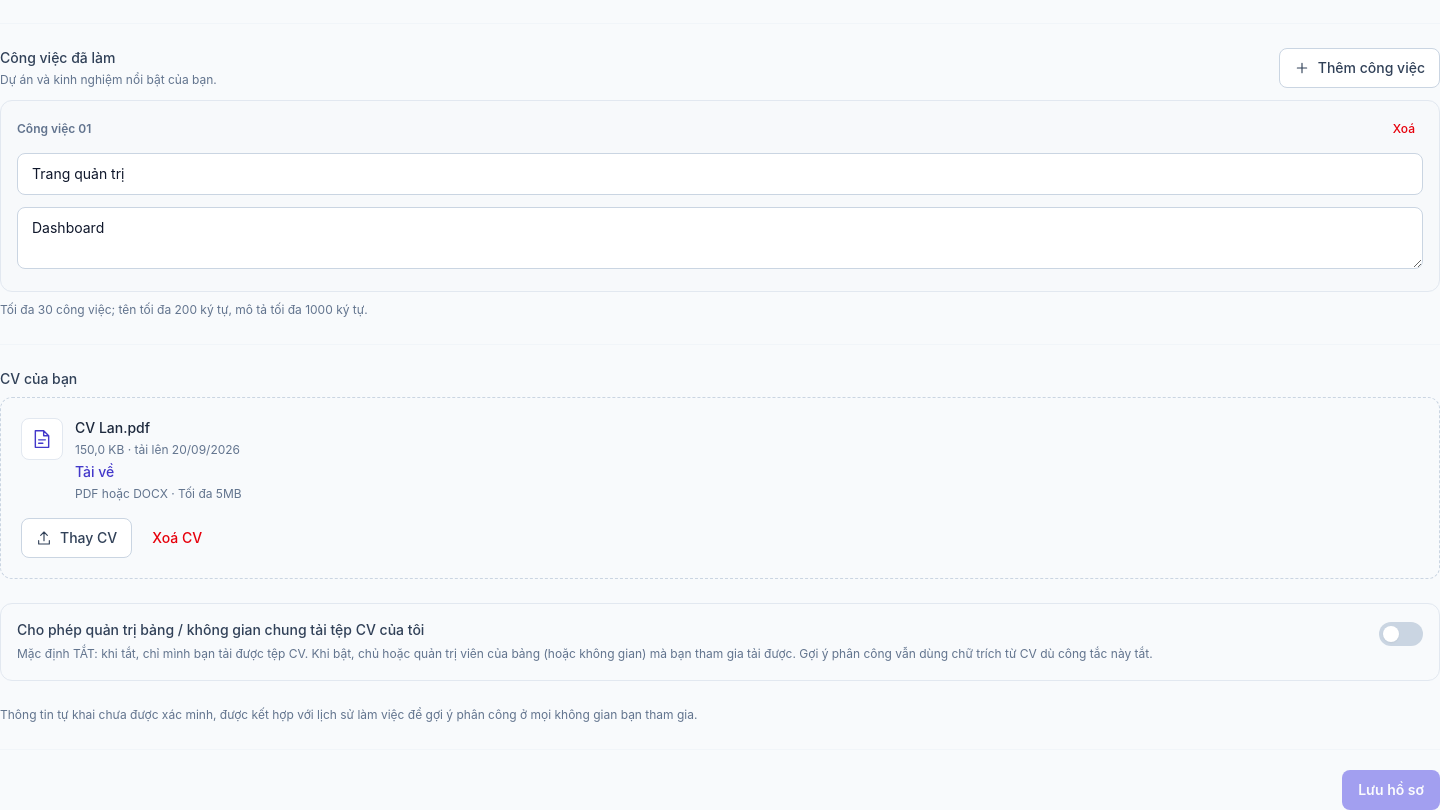
DeclaredProfileSection - công tắc chia sẻ CV (mặc định tắt) › mặc định TẮT; bật rồi Lưu gửi cvShared: true
(page scrolled)
Expected: the button "Lưu hồ sơ" is shown, [1342,770,1439,809]
What coordinates should you click on to do the following:
click the checkbox labelled "Cho phép quản trị bảng"
I would click on:
 (221, 630)
Its box is [0,603,1439,681].
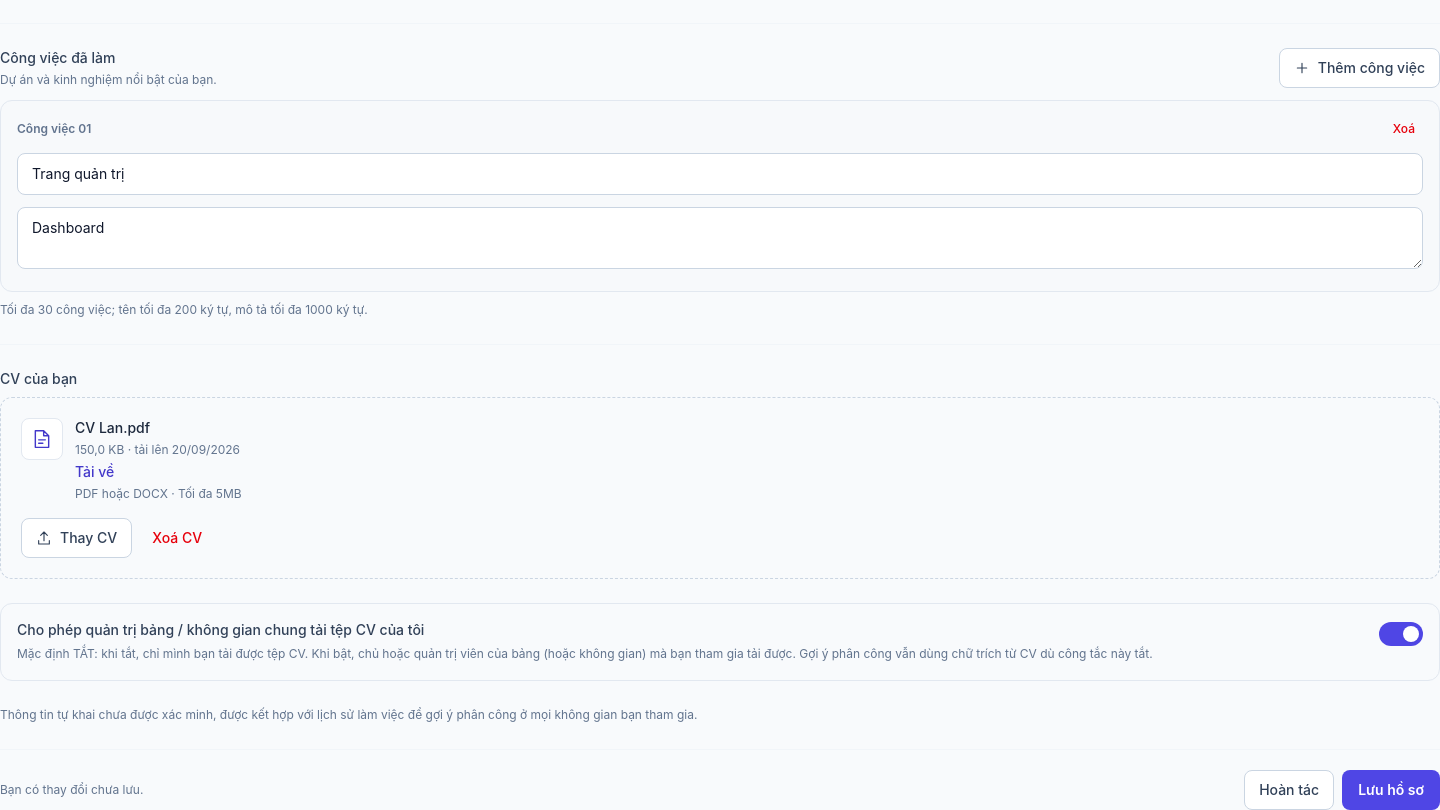
Now the checkbox labelled "Cho phép quản trị bảng" is checked, box [0,603,1439,681]
What coordinates should you click on to do the following:
click the button "Lưu hồ sơ"
I would click on:
 (1391, 790)
Its box is [1342,770,1439,809].
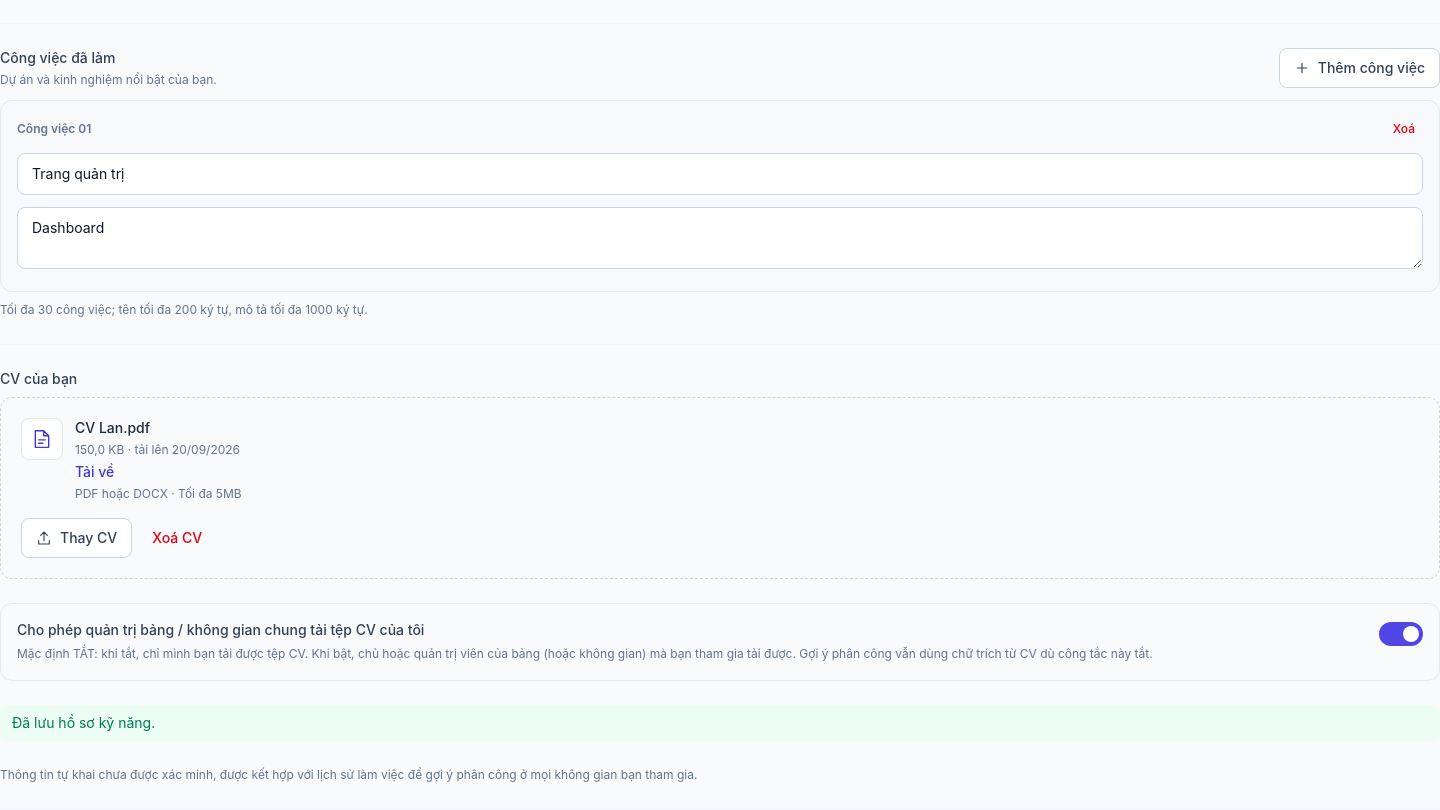
Now the text "Đã lưu hồ sơ kỹ năng." is shown, box [0,705,1439,741]
